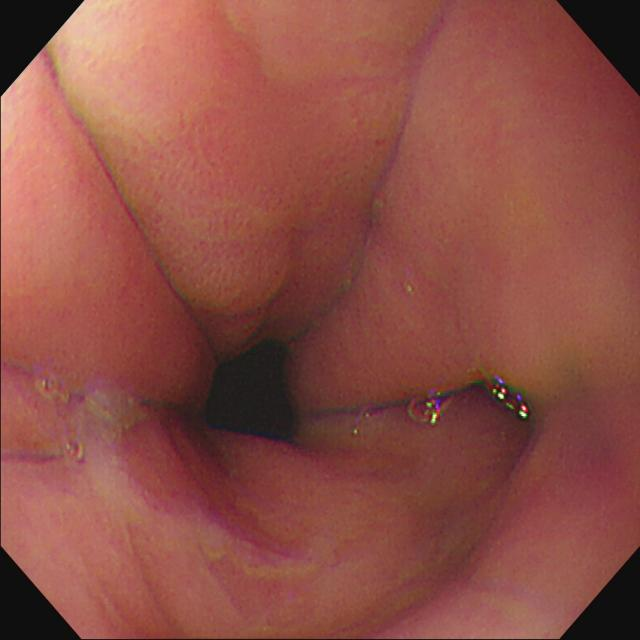A: (137, 107, 396, 306)
E: (207, 341, 297, 443)
U: (488, 377, 530, 419), (424, 390, 448, 427)
